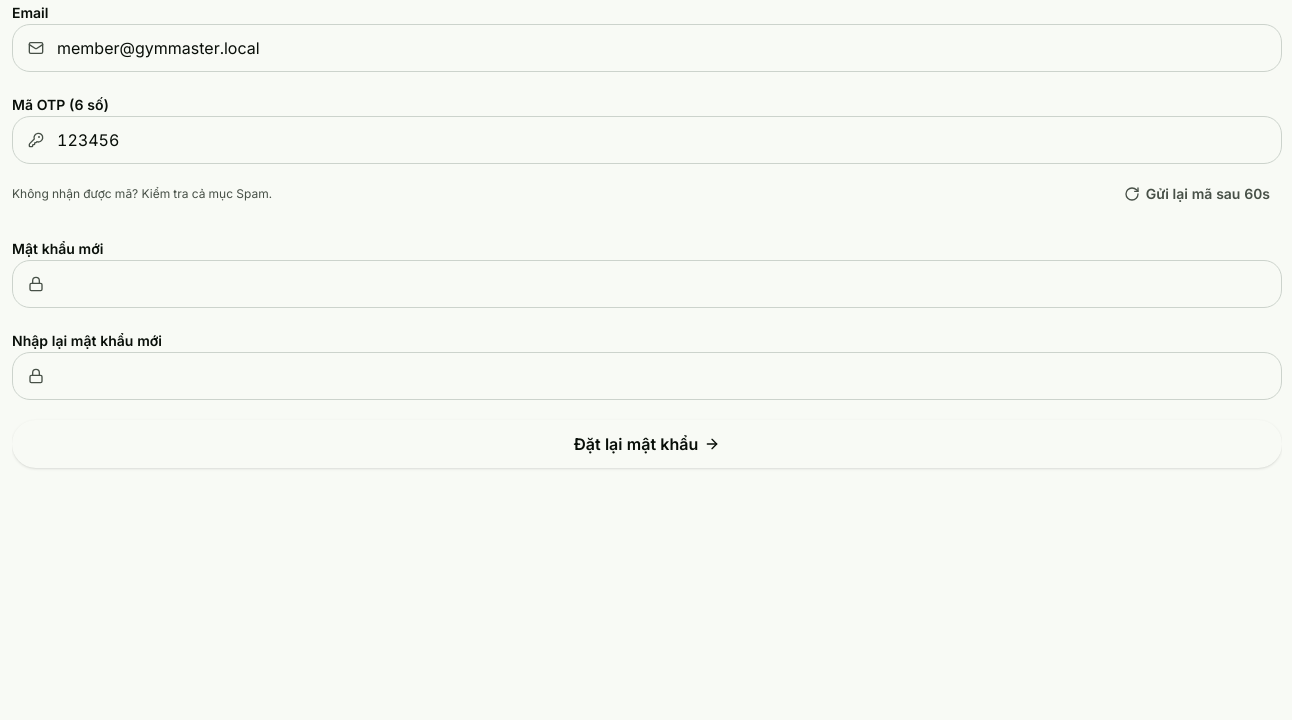
Test case: auth account forms › resets password with a valid OTP
This screenshot has width=1292, height=720.
Type "NewPassword123!" into the password field labelled "Mật khẩu mới" at coordinates (647, 284), box x1=12 y1=260 x2=1282 y2=308
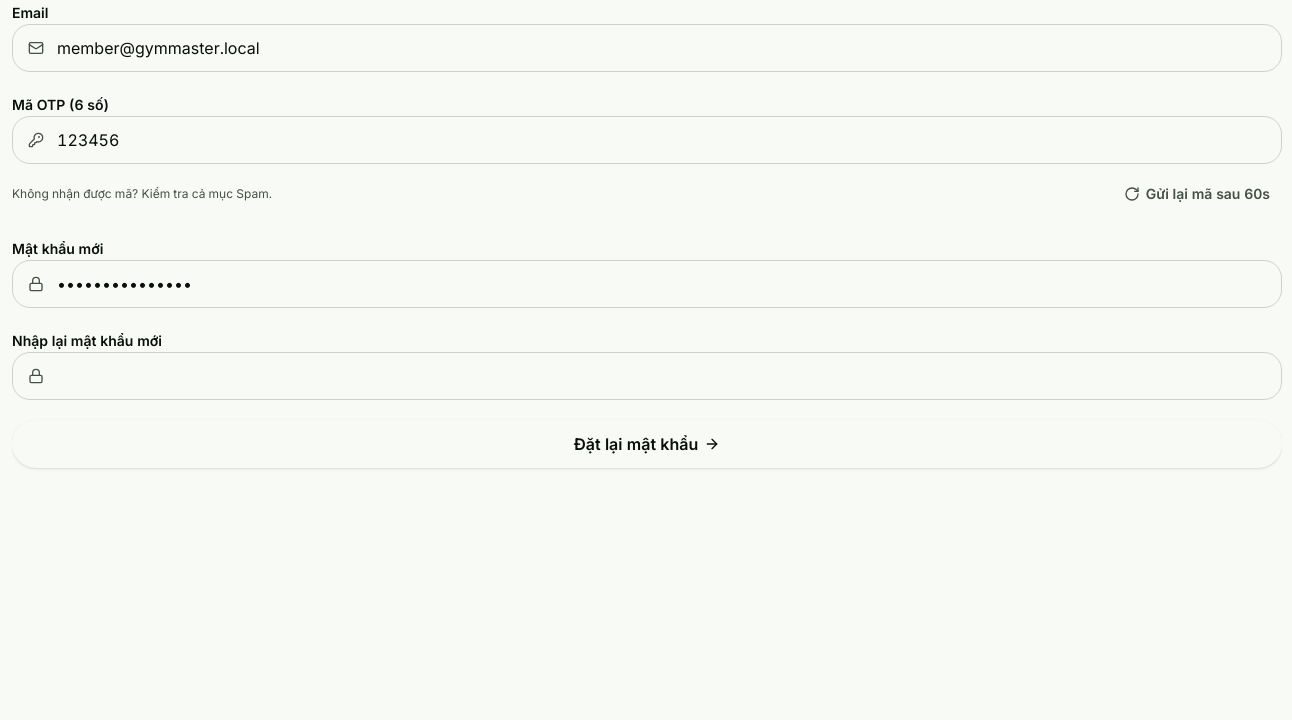
Type "NewPassword123!" into the password field labelled "Nhập lại mật khẩu mới" at coordinates (647, 376), box x1=12 y1=352 x2=1282 y2=400
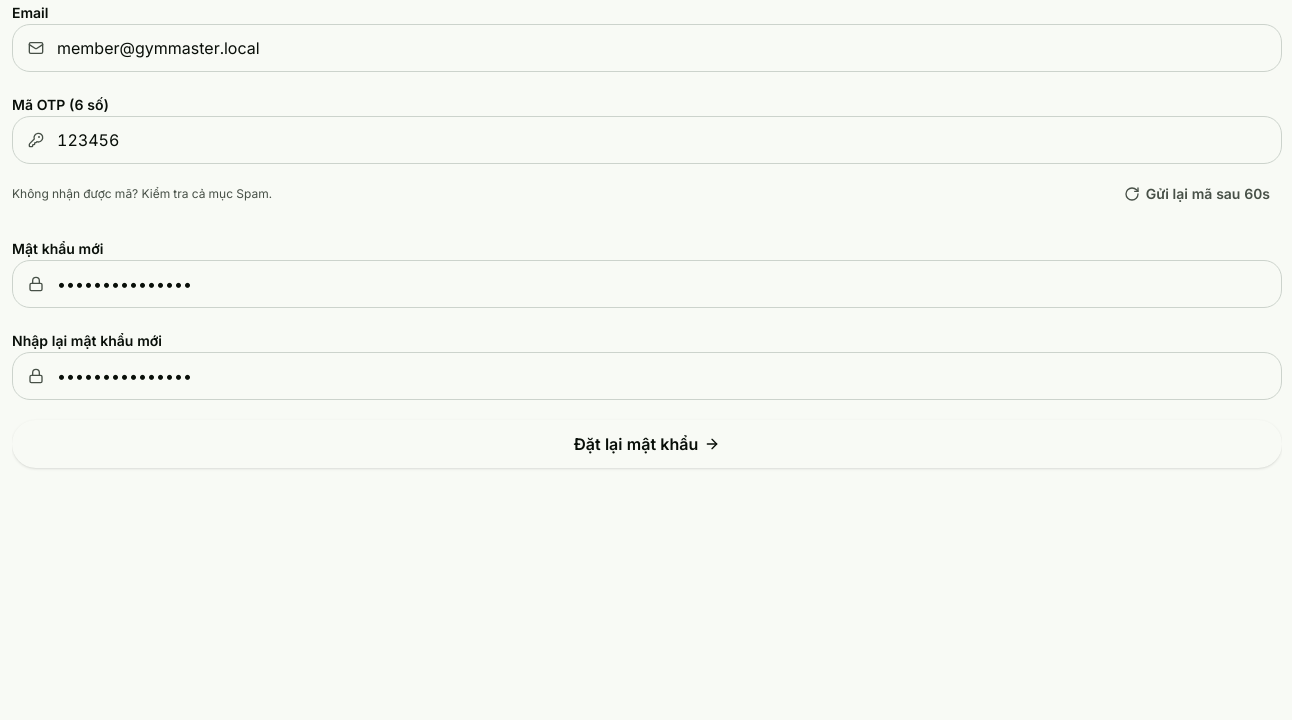
Click the button "Đặt lại mật khẩu" at coordinates (647, 444), box x1=12 y1=420 x2=1282 y2=468
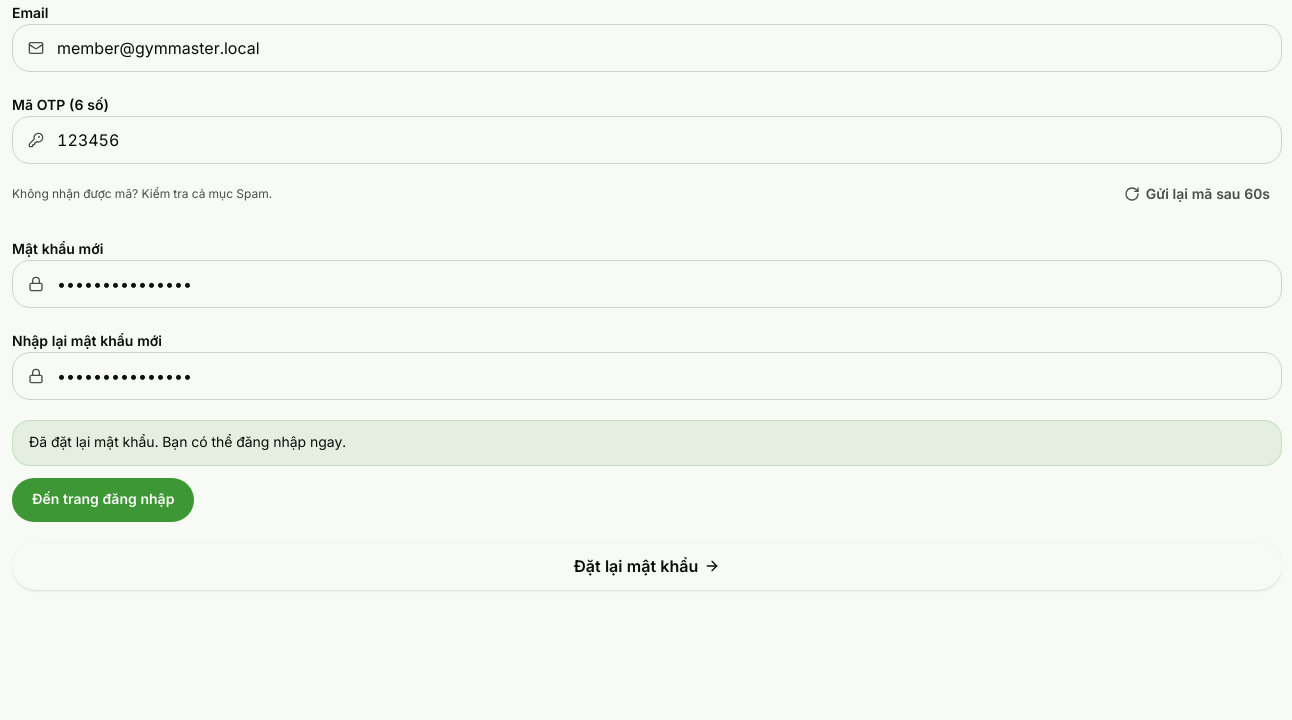
Result: the text "Đã đặt lại mật khẩu. Bạn có thể đăng nhập ngay." is shown at x1=12 y1=420 x2=1282 y2=466
